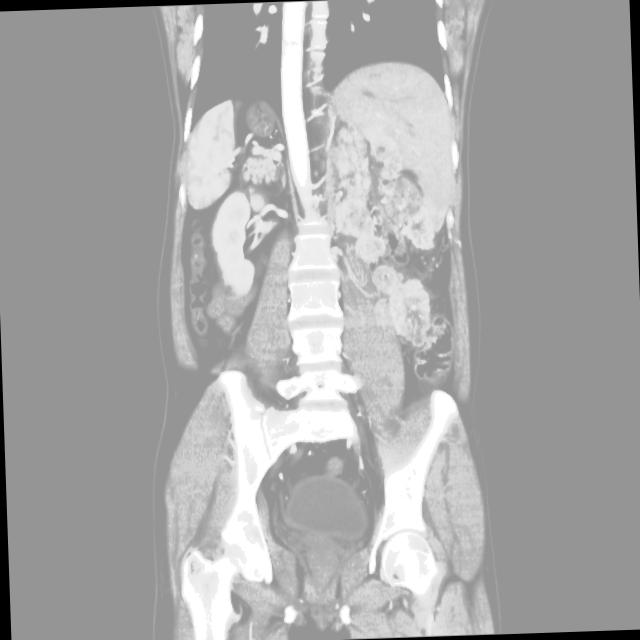TUMOR: (119, 141, 498, 459)
